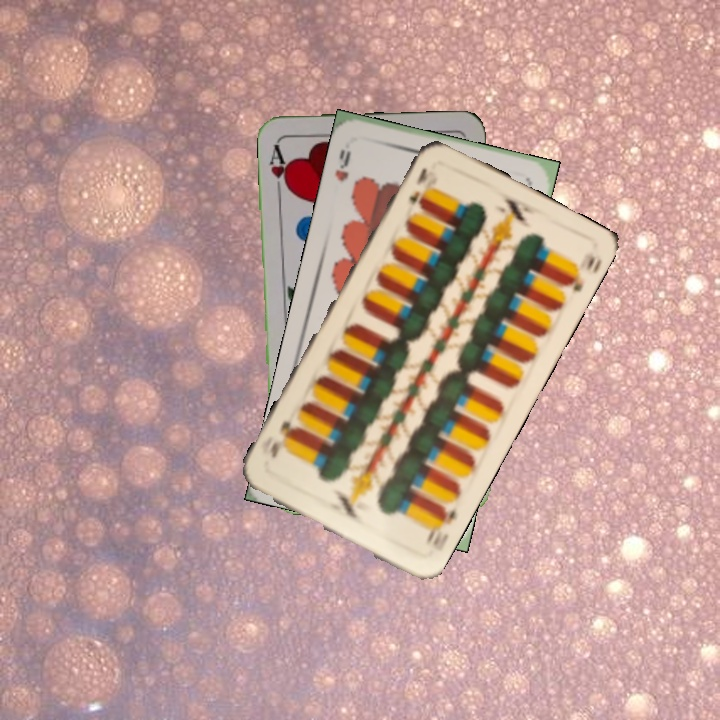E10: (421, 502, 459, 554), (405, 163, 430, 208)
H9: (331, 145, 354, 184)
HA: (266, 140, 292, 198)
